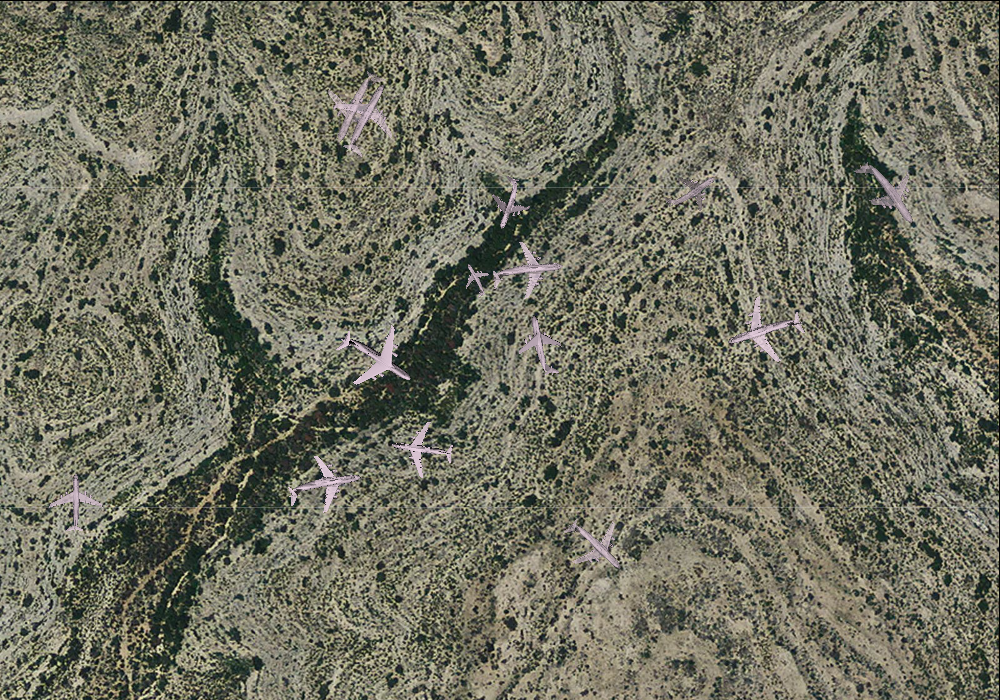plane: (321, 304, 430, 412), (317, 68, 416, 168), (308, 56, 406, 157), (838, 142, 935, 243), (717, 284, 813, 378), (548, 499, 641, 593), (282, 447, 366, 525), (488, 235, 566, 308), (654, 155, 727, 226), (387, 416, 457, 482), (510, 310, 574, 380), (476, 169, 539, 236), (47, 474, 102, 532), (452, 256, 498, 303)
